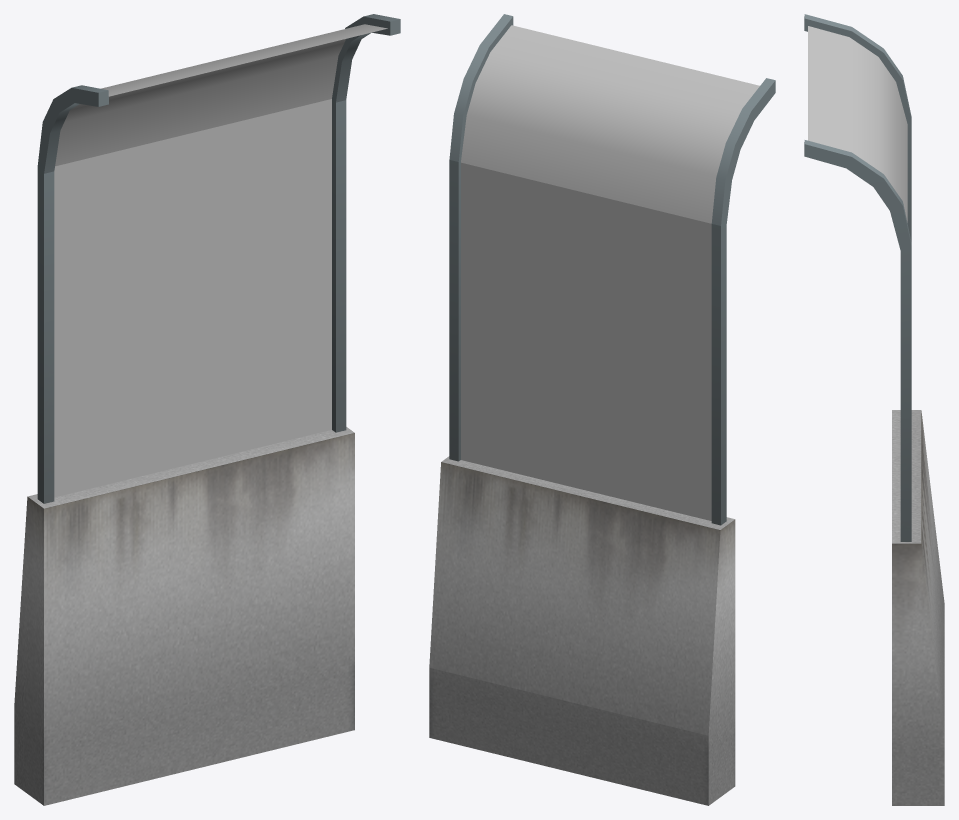
The model's file is wall_tall.FBX.
The picture shows the model from 3 angles, left to right: view 1: azimuth 30°, elevation 25°; view 2: azimuth 150°, elevation 25°; view 3: azimuth 270°, elevation 25°; orthographic projection. The views are drawn at different scales.
Visible parts, largest first — view 1: wall_tall, wall_fence_tall; view 2: wall_fence_tall, wall_tall; view 3: wall_tall, wall_fence_tall.
Part boxes in pixels (<box>): wall_tall: <box>14,14,400,805</box>; wall_fence_tall: <box>54,24,387,497</box>; wall_fence_tall: <box>461,25,759,520</box>; wall_tall: <box>429,14,775,805</box>; wall_tall: <box>804,14,944,805</box>; wall_fence_tall: <box>808,26,907,222</box>.
Bounding box in the file's own units: 157 × 362 × 69.7.
